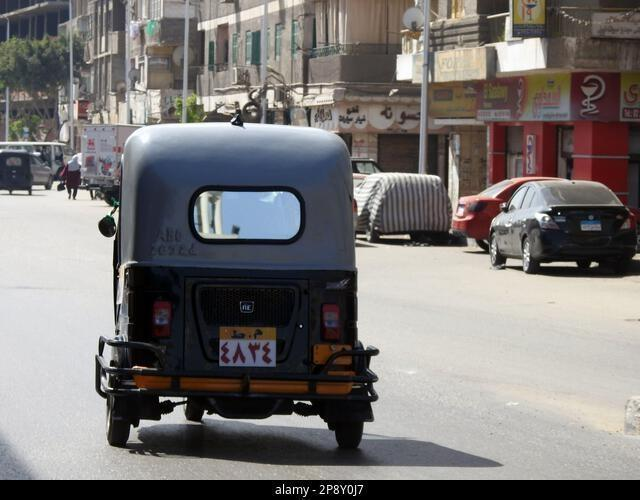keke: (90, 115, 381, 459)
